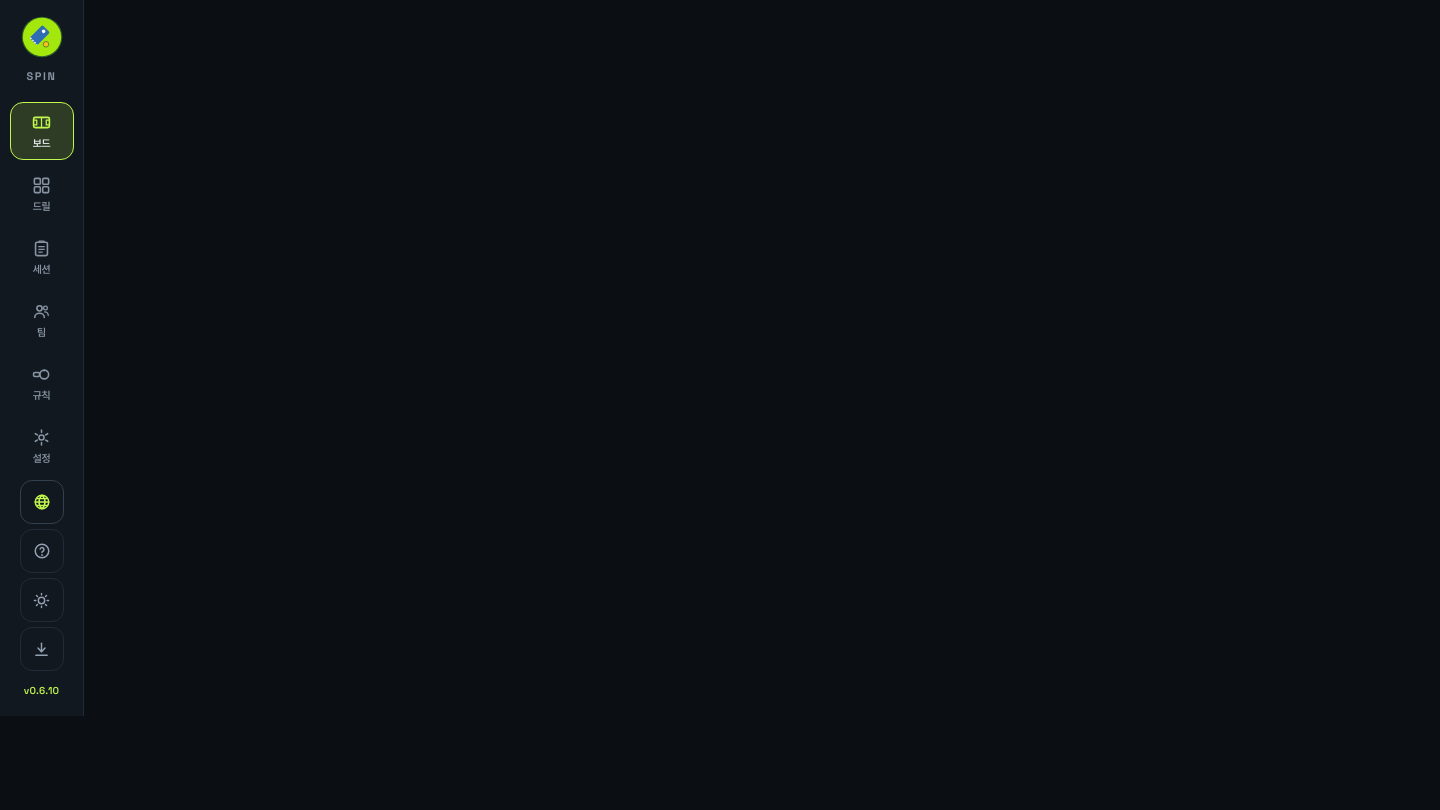
Test: 언어 고르기 — 레일의 지구본 › 한국어를 고르면 저장되고 모달이 닫힌다
Click the button named "언어".
click(42, 502)  # box [20, 480, 64, 524]
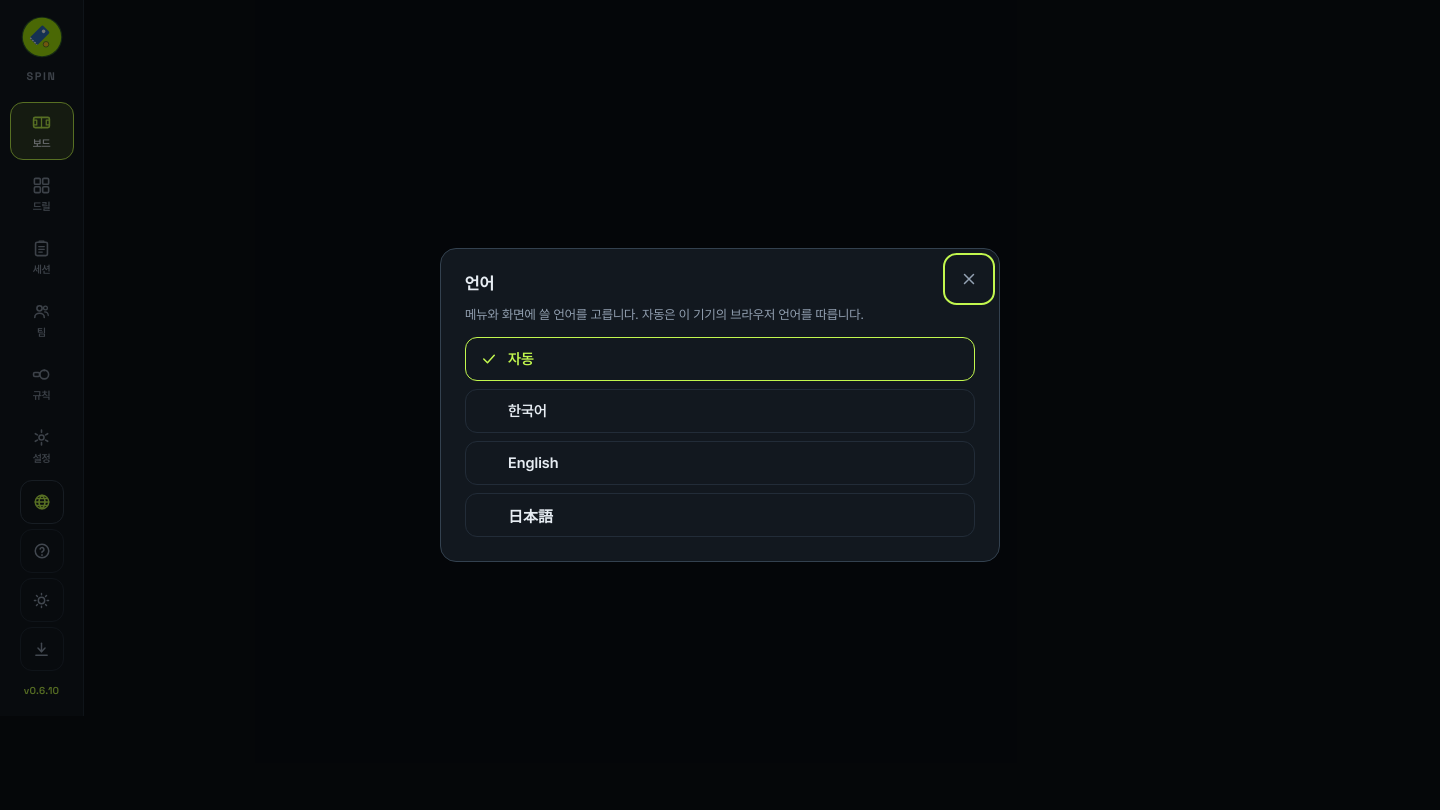
Click the button "한국어".
click(527, 411)  # box [465, 389, 975, 433]
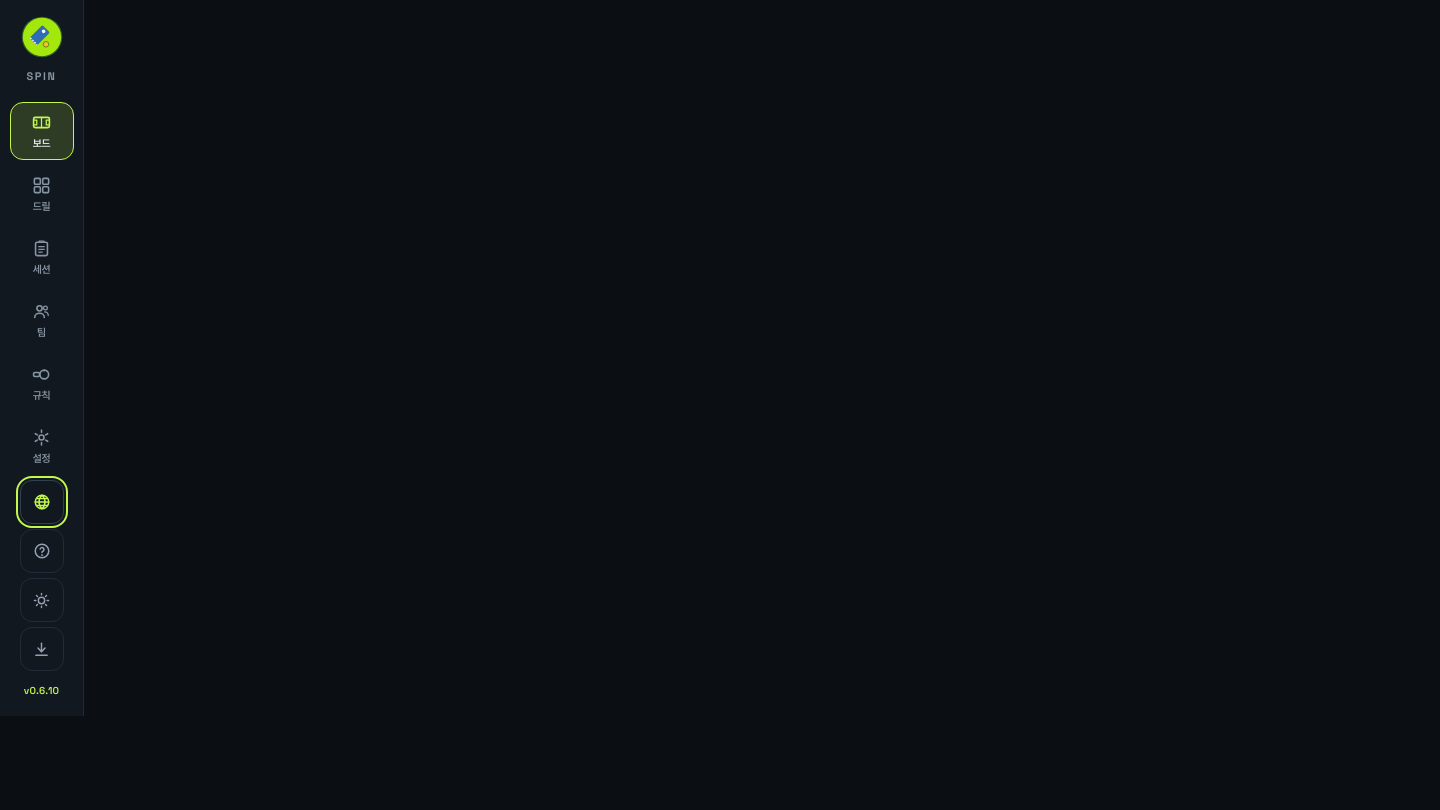
Check: the dialog is gone
